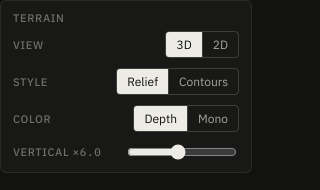
it: Controls › disables exaggeration in 2D
The width and height of the screenshot is (320, 190).
Expected: the slider labelled "Vertical ×6.0" is enabled, [127,144,237,160]
What coordinates should you click on to do the following:
click the button "2D"
I would click on:
 (220, 44)
Its box is [202,32,238,57].
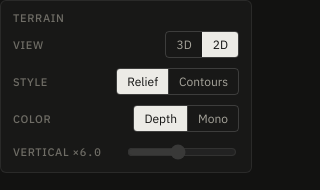
Expected: the slider labelled "Vertical ×6.0" is disabled, [127,144,237,160]
